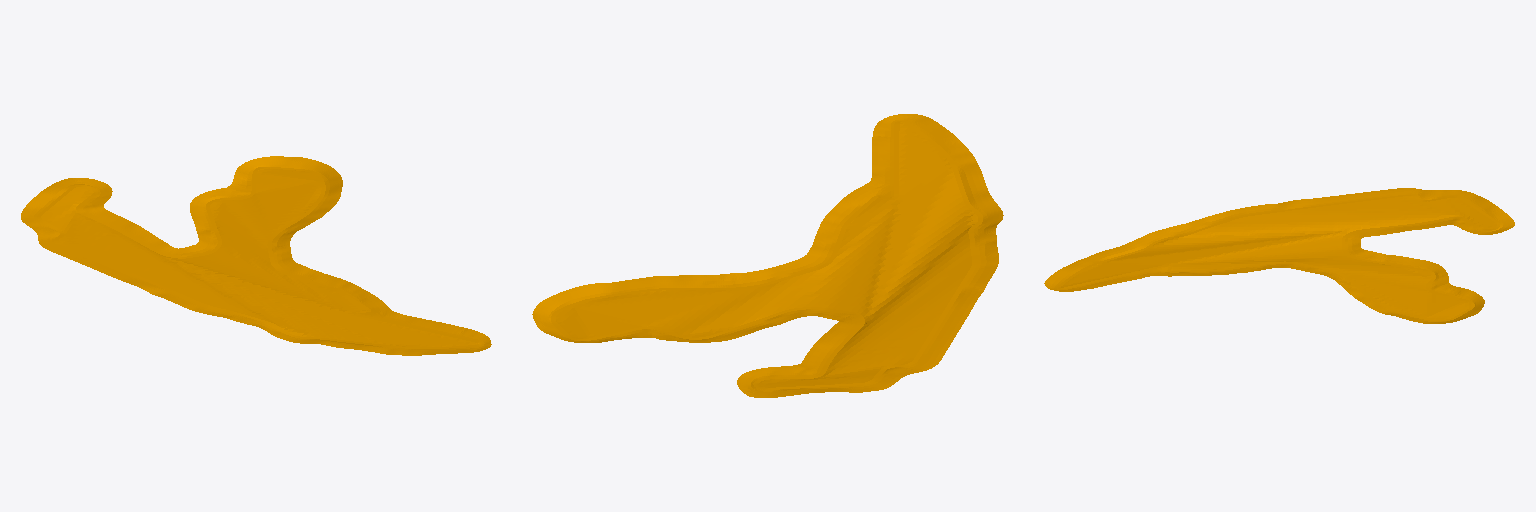
robot.urdf — spa_circuit:
<?xml version="1.0" ?>
<robot name="spa_circuit">


  <link name="f1">
    <origin rpy="0 0 0" xyz="0 0 0"/>
    <!-- <visual>
      <origin rpy="0 0 -1.57" xyz="0 0 0"/>
      <geometry>
        <mesh filename="package://f1/models/f1_renault/Renault/Car.obj" scale="0.2 0.2 0.2"/>
      </geometry>
    </visual> -->

    <visual>
      <origin rpy="0 0 3.14" xyz="500 0 -415"/>
      <geometry>
        <mesh filename="package://f1/models/spa/meshes/spa.dae"/>
      </geometry>
    </visual>
  </link>

</robot>

--- Render facts (derived) ---
3 views of the same robot in one strip: view 1: azimuth 30°, elevation 25°; view 2: azimuth 150°, elevation 25°; view 3: azimuth 270°, elevation 25° (orthographic).
Model spa_circuit with 1 links and 0 joints (none), rooted at f1, posed all joints at 0.
Visible links, largest first — view 1: f1; view 2: f1; view 3: f1.
Link boxes in pixels (<box>): f1: <box>21,156,491,355</box>; f1: <box>532,114,1003,397</box>; f1: <box>1044,188,1514,323</box>.
Bounding box of the posed robot: 2232 × 3470 × 122 m (x, y, z).
1 mesh visuals loaded from 1 distinct referenced files (1 Collada DAE).
